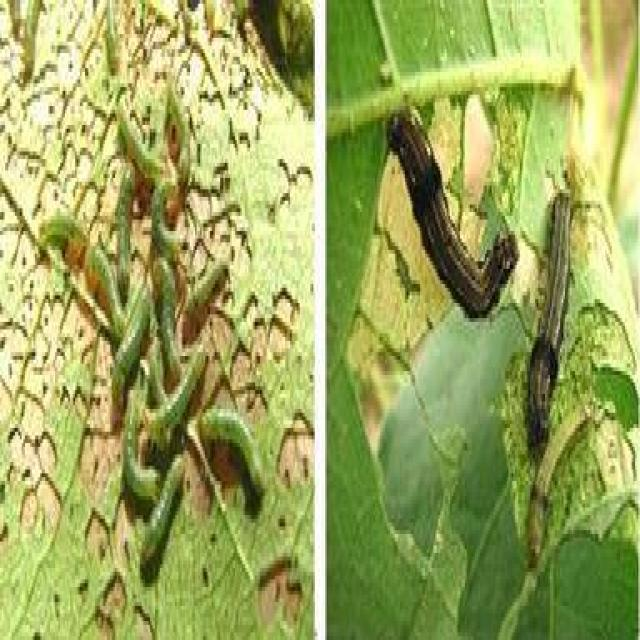BeetArmyWorm-Larva-: (386, 98, 527, 326), (522, 169, 586, 467), (199, 404, 267, 506), (105, 300, 154, 436), (142, 337, 209, 434), (139, 458, 191, 580), (178, 255, 232, 358), (112, 94, 168, 193), (108, 150, 141, 309), (150, 241, 183, 400), (30, 185, 93, 264), (122, 385, 160, 514), (88, 246, 129, 340)
